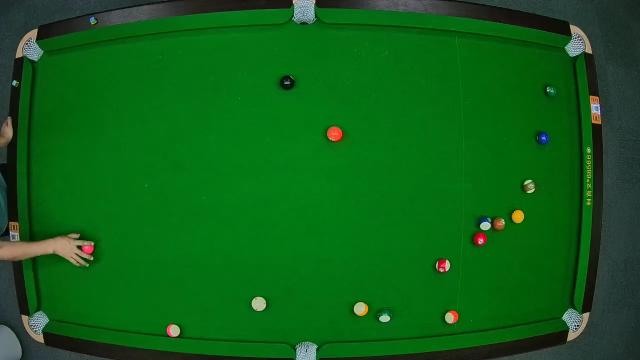bag1: (24, 40, 40, 62)
bag2: (292, 2, 316, 22)
bag3: (566, 34, 584, 56)
bag4: (27, 310, 49, 336)
bag5: (295, 342, 319, 360)
bag6: (562, 308, 584, 332)
ball0: (250, 296, 266, 312)
ball1: (512, 207, 528, 224)
ball10: (478, 215, 492, 231)
ball11: (434, 258, 450, 274)
ball12: (165, 323, 181, 337)
ball13: (444, 309, 460, 325)
ball14: (376, 307, 394, 323)
ball15: (520, 178, 536, 194)
ball2: (536, 130, 550, 146)
ball3: (472, 231, 486, 246)
ball4: (80, 241, 98, 255)
ball5: (326, 124, 344, 144)
ball6: (544, 82, 560, 98)
ball7: (492, 216, 508, 232)
ball8: (280, 75, 296, 89)
ball9: (352, 301, 370, 317)
